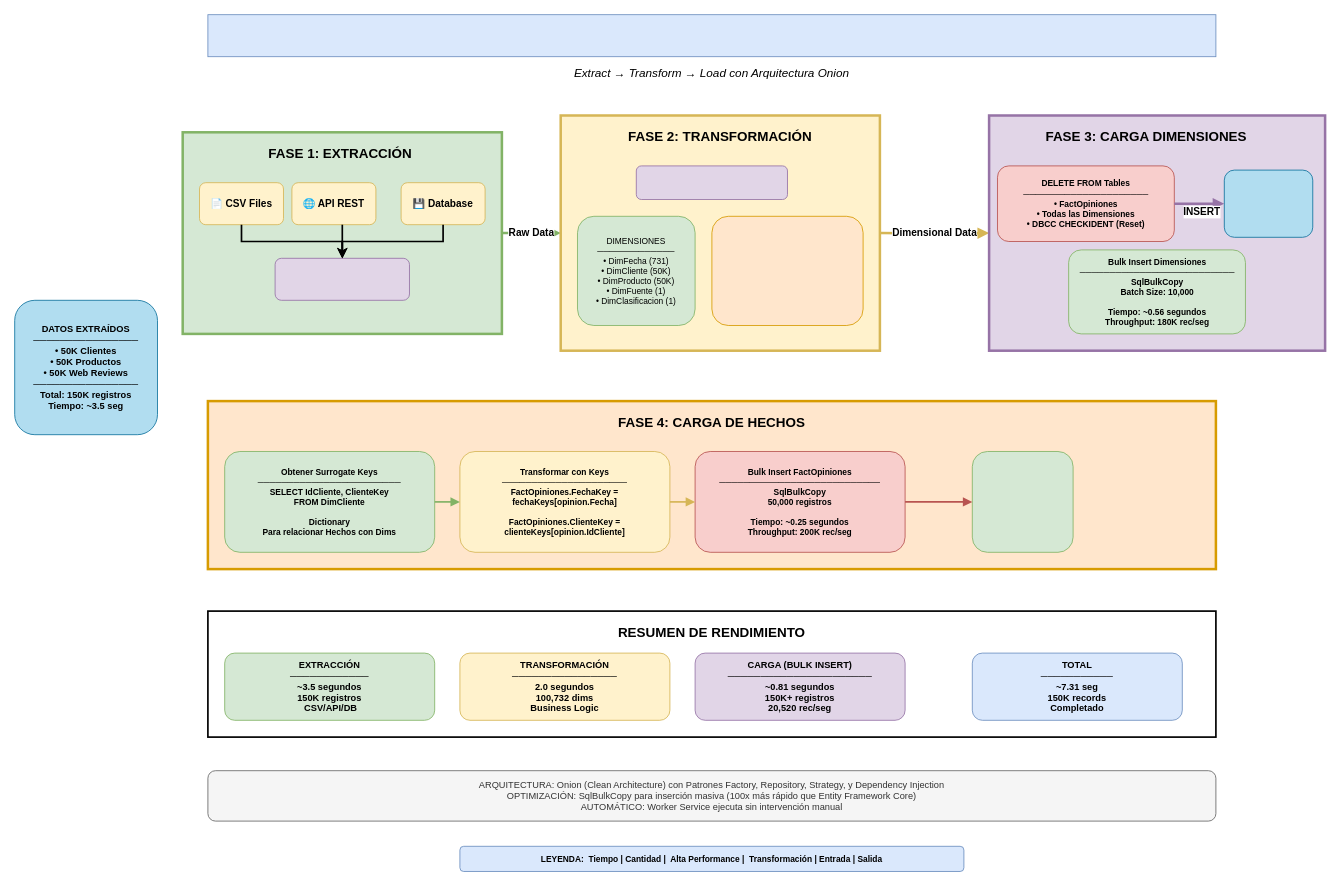
The diagram is 1341 pixels wide and 886 high, and some of its shapes have lost their labels. Here are the shapes that lost their labels. From the top down, the centre of each, then its label:
the point at 711,35: Flujo del Proceso ETL - Sistema de Opiniones de Clientes
the point at 711,182: TransformationService
the point at 1268,203: Data Warehouse (OpinionDW)
the point at 342,278: DataSourceFactory (Strategy Pattern)
the point at 787,270: HECHOS ────────── • FactOpiniones (50K) Con FK a todas las dimensiones
the point at 1022,501: PROCESO COMPLETADO ────────── Total: ~7.31 seg ────────── 150K records
